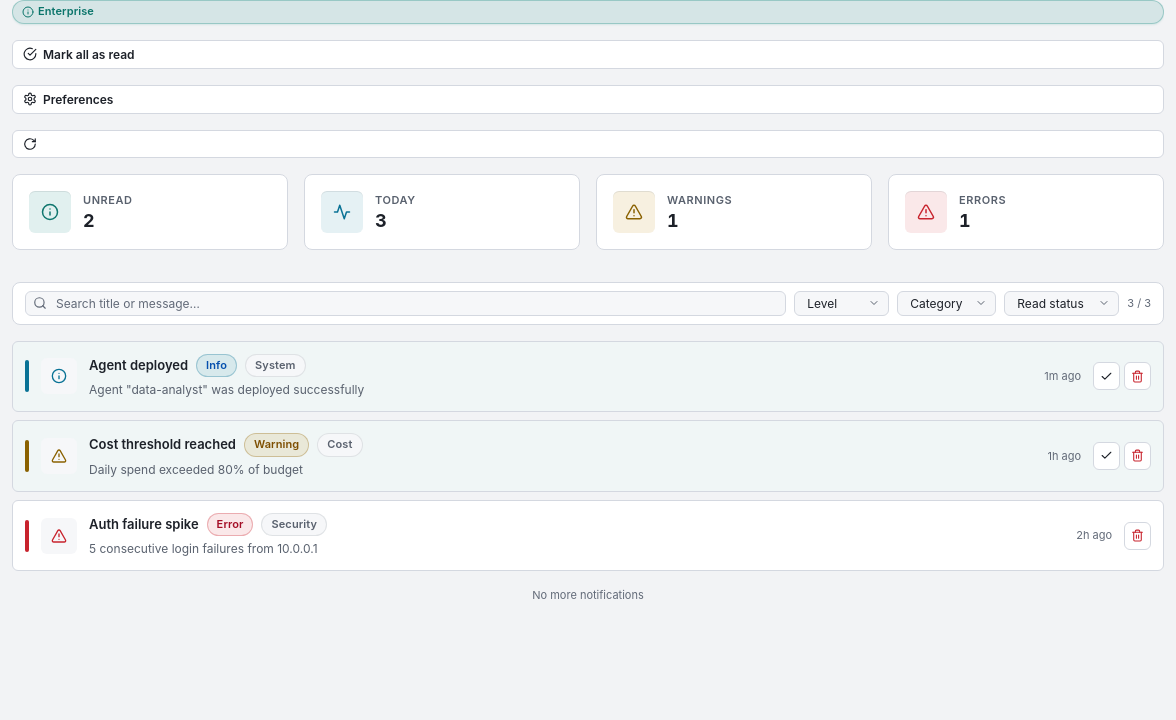
Notifications.vue › deletes a notification when the delete button is clicked
The width and height of the screenshot is (1176, 720).
Expected: the number of buttons with class "notif-row" is 3, x1=12 y1=341 x2=1164 y2=412; x1=12 y1=420 x2=1164 y2=492; x1=12 y1=500 x2=1164 y2=571
Click the 1st button with class "danger" at x=1138, y=376, box x1=1124 y1=362 x2=1151 y2=390
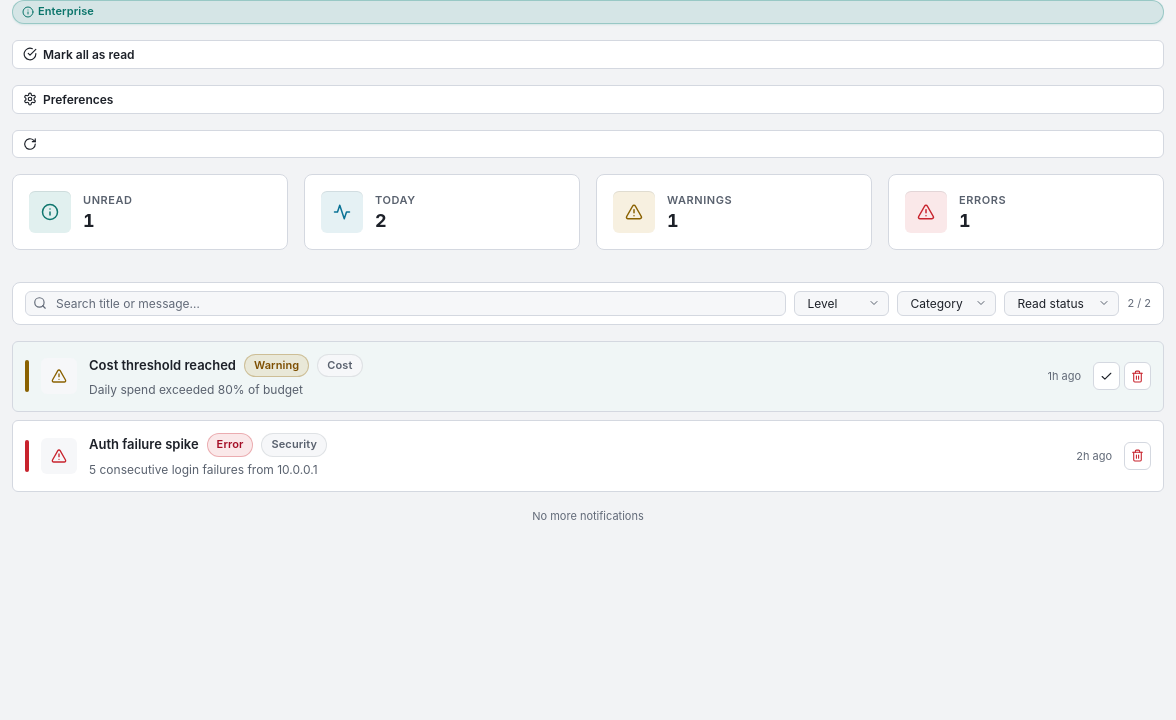
Expected: the number of buttons with class "notif-row" is 2, x1=12 y1=341 x2=1164 y2=412; x1=12 y1=420 x2=1164 y2=492
